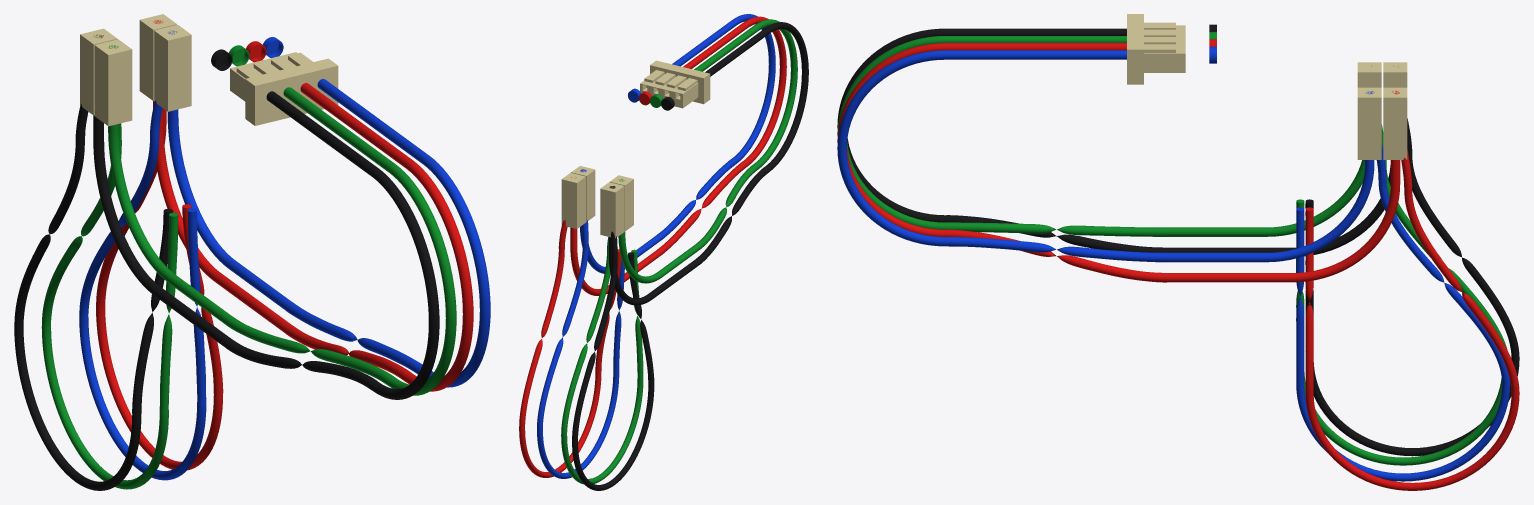
The model's file is motor_harness.glb.
3 renders of one model, left to right at view 1: azimuth 30°, elevation 25°; view 2: azimuth 150°, elevation 25°; view 3: azimuth 270°, elevation 25°, orthographic. The views are drawn at different scales.
Visible parts, largest first — view 1: Wire_1, Wire_2, Wire_4, Wire_3, FactoryLead_1, FactoryLead_4, FactoryLead_2, FactoryLead_3, PHR4_mating_housing_envelope, Splice_insulation_2, Splice_insulation_4, Splice_insulation_3 (+1 smaller); view 2: Wire_1, Wire_3, Wire_2, FactoryLead_1, FactoryLead_4, Wire_4, FactoryLead_2, FactoryLead_3, PHR4_mating_housing_envelope, Splice_insulation_3, Splice_insulation_1, Splice_insulation_2 (+1 smaller); view 3: Wire_4, Wire_3, Wire_2, FactoryLead_3, Wire_1, FactoryLead_4, FactoryLead_1, FactoryLead_2, PHR4_mating_housing_envelope, Splice_insulation_4, Splice_insulation_3.
Boxes of the visible parts, x1,y1,x2,y2 form: Wire_1: [93, 34, 439, 399]; Wire_2: [108, 45, 456, 395]; Wire_4: [167, 31, 490, 387]; Wire_3: [153, 20, 473, 391]; FactoryLead_1: [14, 35, 172, 490]; FactoryLead_4: [79, 30, 206, 480]; FactoryLead_2: [41, 45, 178, 489]; FactoryLead_3: [96, 20, 223, 470]; PHR4_mating_housing_envelope: [230, 52, 338, 125]; Splice_insulation_2: [94, 39, 132, 126]; Splice_insulation_4: [154, 25, 191, 111]; Splice_insulation_3: [139, 14, 176, 100]; Wire_1: [609, 22, 808, 305]; Wire_3: [570, 16, 786, 295]; Wire_2: [618, 19, 797, 283]; FactoryLead_1: [572, 186, 654, 490]; FactoryLead_4: [537, 220, 624, 478]; Wire_4: [580, 14, 775, 273]; FactoryLead_2: [561, 179, 643, 484]; FactoryLead_3: [519, 177, 621, 477]; PHR4_mating_housing_envelope: [640, 60, 710, 108]; Splice_insulation_3: [561, 173, 585, 228]; Splice_insulation_1: [600, 182, 624, 238]; Splice_insulation_2: [610, 175, 633, 231]; Wire_4: [837, 50, 1374, 262]; Wire_3: [837, 43, 1400, 282]; Wire_2: [837, 36, 1364, 236]; FactoryLead_3: [1305, 91, 1519, 490]; Wire_1: [837, 28, 1390, 256]; FactoryLead_4: [1296, 91, 1510, 481]; FactoryLead_1: [1305, 118, 1519, 456]; FactoryLead_2: [1296, 66, 1507, 465]; PHR4_mating_housing_envelope: [1127, 14, 1185, 84]; Splice_insulation_4: [1357, 87, 1381, 159]; Splice_insulation_3: [1383, 87, 1407, 159].
Bounding box in the file's own units: 11.88 × 57.57 × 79.52.
